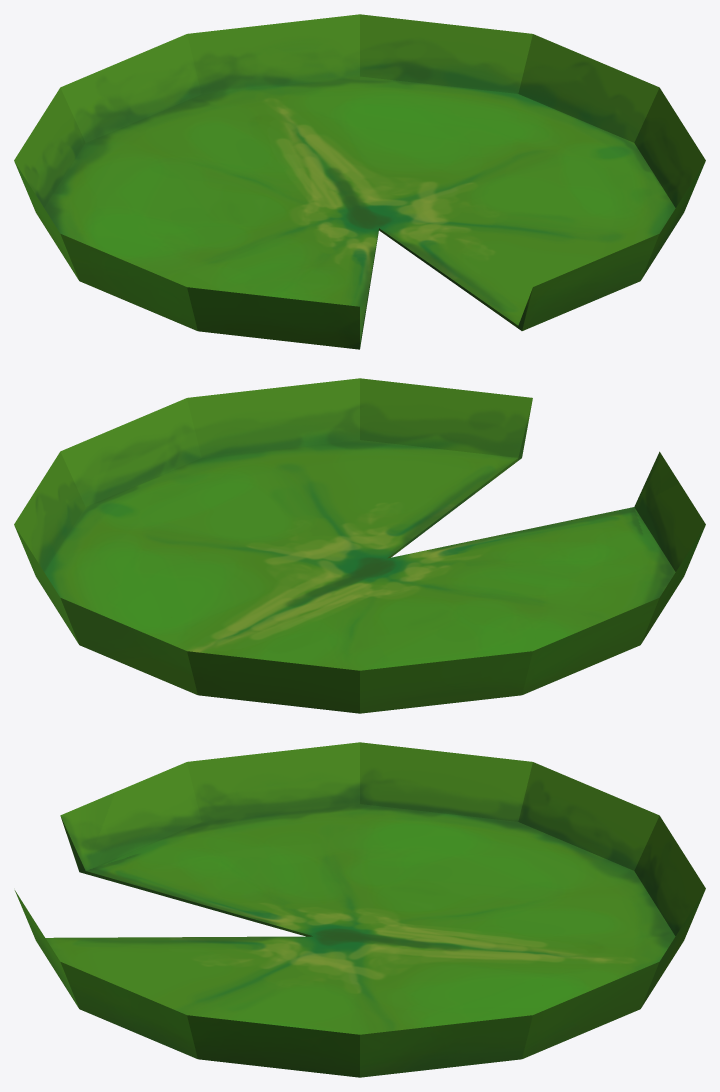
Rendered from lilypad.fbx.
The picture shows the model from 3 angles, top to bottom: view 1: azimuth 30°, elevation 25°; view 2: azimuth 150°, elevation 25°; view 3: azimuth 270°, elevation 25°; orthographic projection.
Visible parts, largest first — view 1: Cylinder; view 2: Cylinder; view 3: Cylinder.
Part boxes in pixels (left/top/right/bottom): Cylinder: left=14, top=14, right=705, bottom=349; Cylinder: left=14, top=378, right=705, bottom=713; Cylinder: left=14, top=742, right=705, bottom=1077.
Bounding box in the file's own units: 200 × 16.64 × 200.
